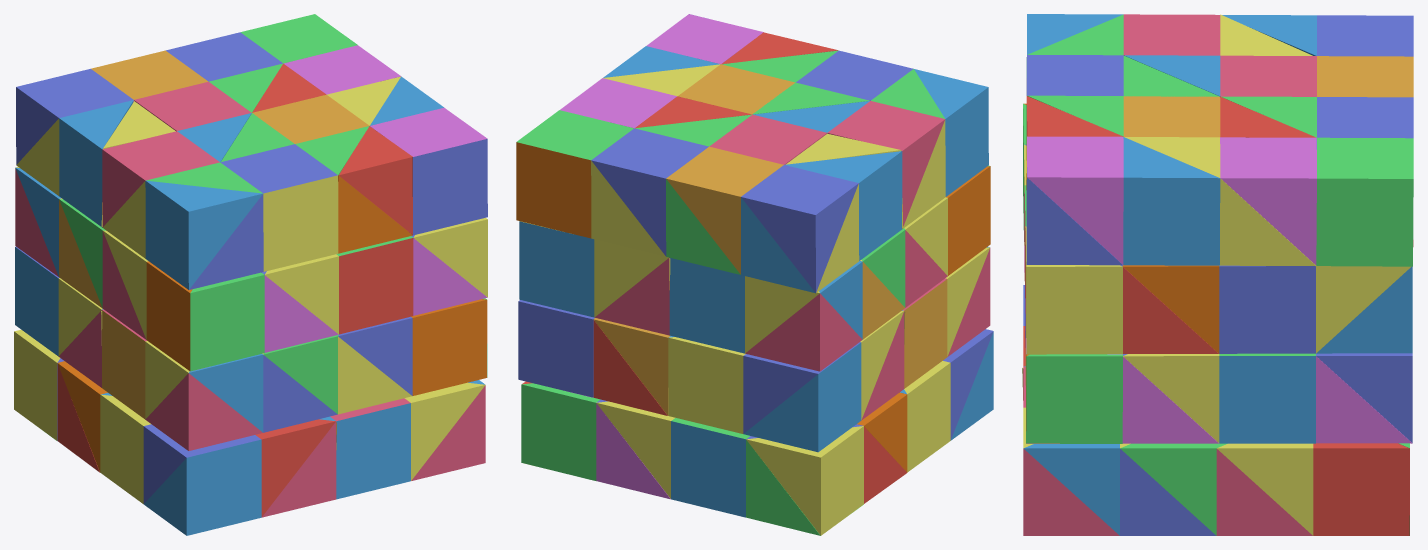
3 views of the same model, side by side, from view 1: azimuth 30°, elevation 25°; view 2: azimuth 150°, elevation 25°; view 3: azimuth 270°, elevation 25° (orthographic). The views are drawn at different scales.
Parts seen in each view (by area): view 1: Cube.365, Cube.221, Cube.295, Cube.248, Cube.369, Cube.375, Cube.329, Cube.212, Cube.356, Cube.363, Cube.358, Cube.262 (+52 smaller); view 2: Cube.358, Cube.231, Cube.269, Cube.199, Cube.337, Cube.351, Cube.273, Cube.279, Cube.317, Cube.344, Cube.308, Cube.233 (+50 smaller); view 3: Cube.377, Cube.200, Cube.327, Cube.247, Cube.343, Cube.321, Cube.281, Cube.374, Cube.347, Cube.194, Cube.206, Cube.215 (+32 smaller).
Boxes of the visible parts, box(x1,y1,x2,y2) form: Cube.365: box(145, 180, 262, 289); Cube.221: box(143, 439, 261, 535); Cube.295: box(190, 272, 264, 371); Cube.248: box(411, 299, 487, 395); Cube.369: box(263, 175, 338, 271); Cube.375: box(413, 139, 487, 235); Cube.329: box(339, 238, 413, 334); Cube.212: box(336, 403, 410, 499); Cube.356: box(59, 100, 133, 227); Cube.363: box(102, 131, 219, 226); Cube.358: box(16, 68, 133, 164); Cube.262: box(145, 373, 262, 450); Cube.358: box(741, 165, 858, 292); Cube.231: box(746, 426, 863, 535); Cube.269: box(743, 342, 861, 452); Cube.199: box(521, 383, 600, 480); Cube.337: box(591, 128, 708, 256); Cube.351: box(666, 146, 783, 274); Cube.273: box(668, 337, 745, 433); Cube.279: box(518, 300, 593, 397); Cube.317: box(519, 221, 594, 317); Cube.344: box(516, 142, 591, 238); Cube.308: box(669, 258, 744, 353); Cube.233: box(671, 421, 745, 517); Cube.377: box(1123, 137, 1220, 265); Cube.200: box(1313, 443, 1409, 535); Cube.327: box(1025, 226, 1122, 354); Cube.247: box(1026, 354, 1122, 443); Cube.343: box(1316, 178, 1413, 266); Cube.321: box(1219, 265, 1315, 353); Cube.281: box(1219, 356, 1315, 443); Cube.374: box(1027, 136, 1123, 264); Cube.347: box(1220, 137, 1316, 265); Cube.194: box(1217, 443, 1313, 535); Cube.206: box(1120, 443, 1216, 535); Cube.215: box(1023, 444, 1119, 535).
Bounding box in the file's own units: 811 × 826 × 810.
